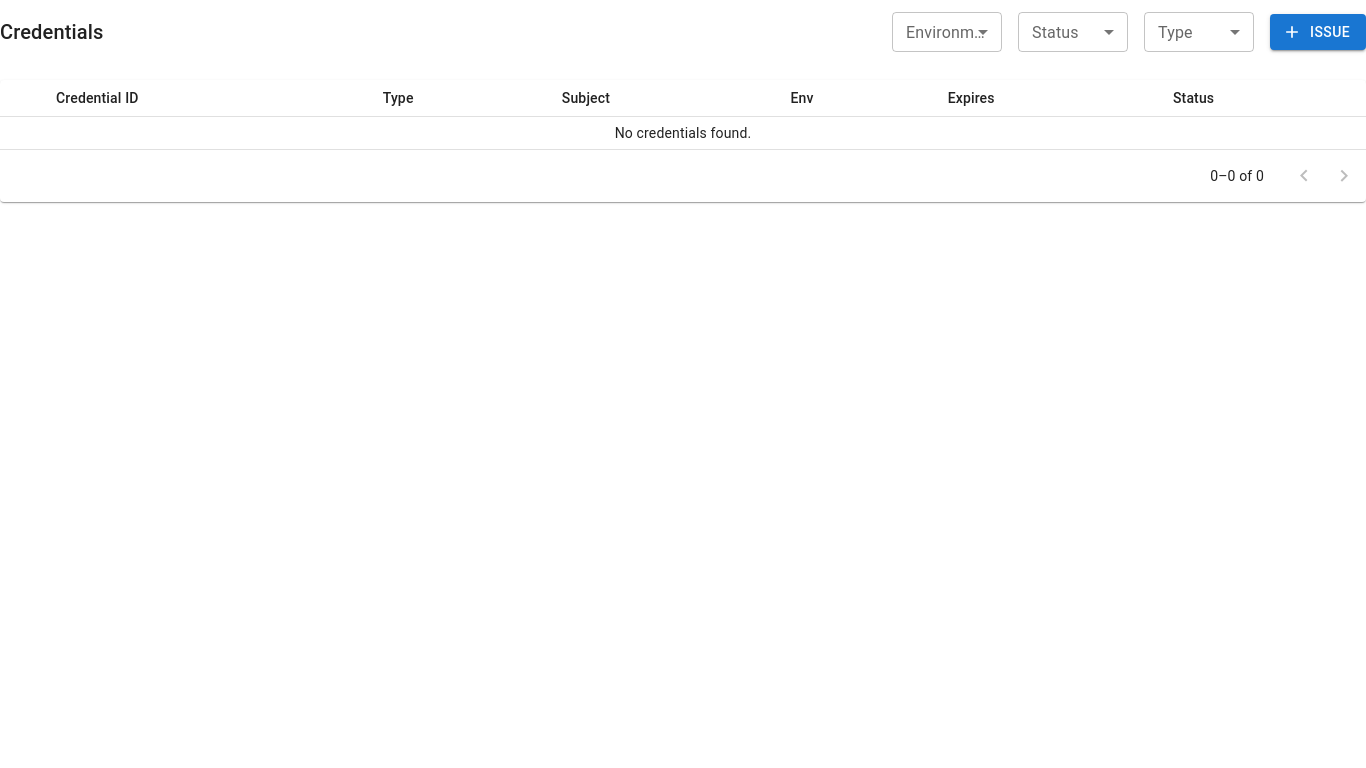
Test: CredentialsPage › opens issue wizard dialog on Issue button click
Check: the text "No credentials found." is shown, box [0,116,1365,150]
Click the button "Issue".
click(1318, 32)  # box [1270,14,1365,50]
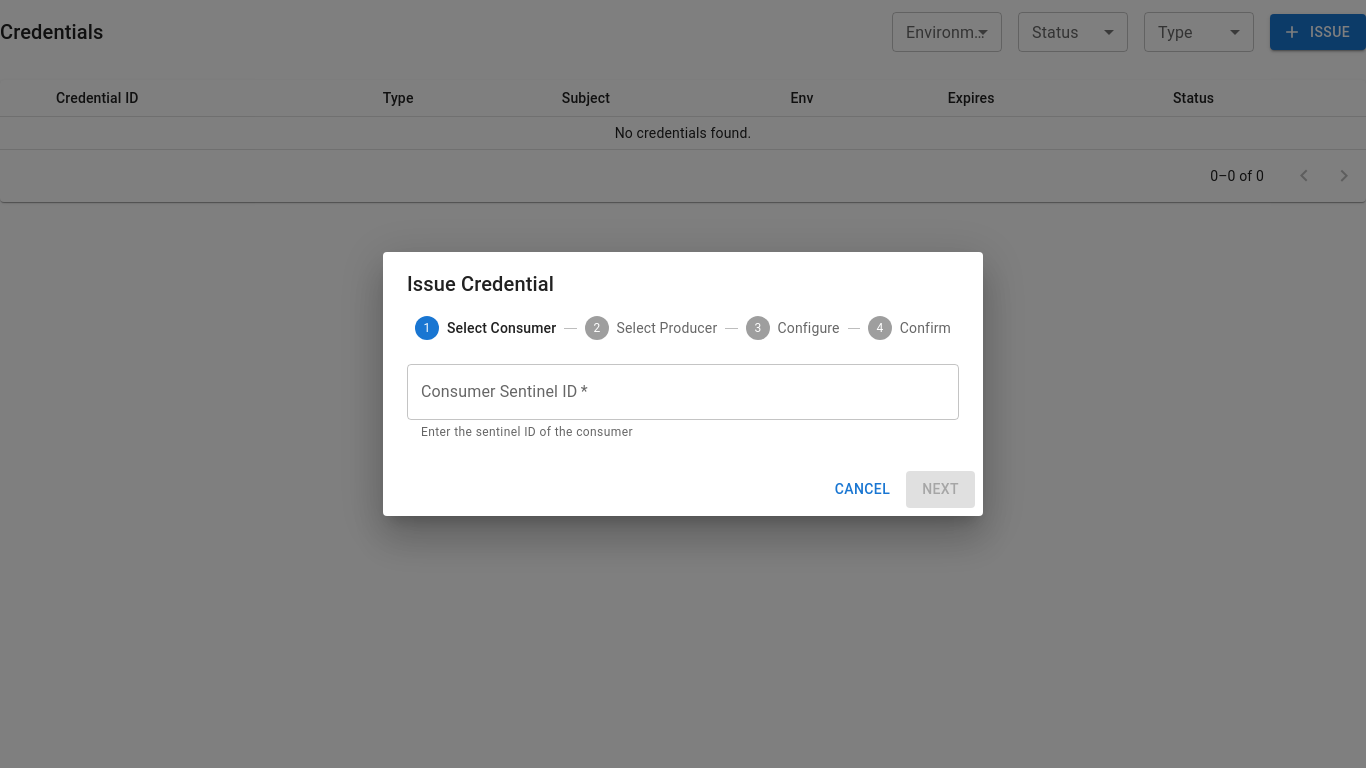
Check: the dialog is shown, box [383,252,983,516]
Check: the heading "Issue Credential" is shown, box [407,272,554,296]
